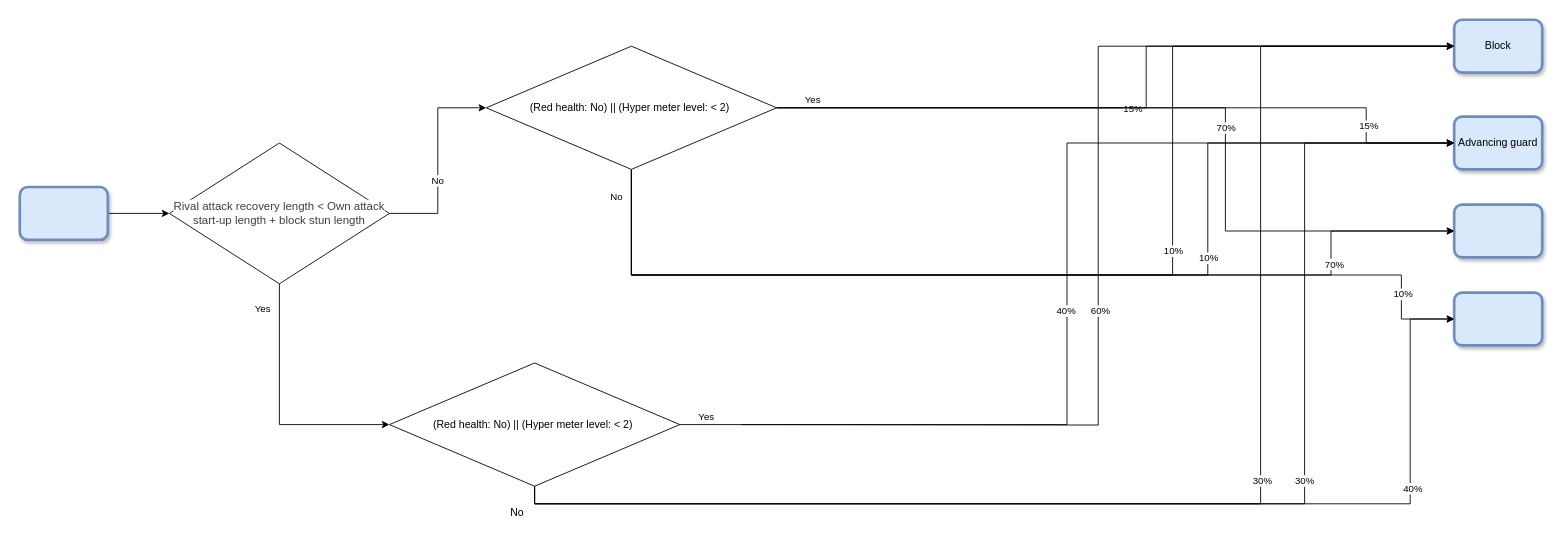
This 1564x537 diagram has some shape labels left out. The shapes that lost their labels are listed below. From the top down, each one's centre as x and y in pixels, then its label:
At pixel 64 214: "Ground || Jump".
At pixel 1498 231: "Start combo".
At pixel 1498 319: "Use mega crash".
